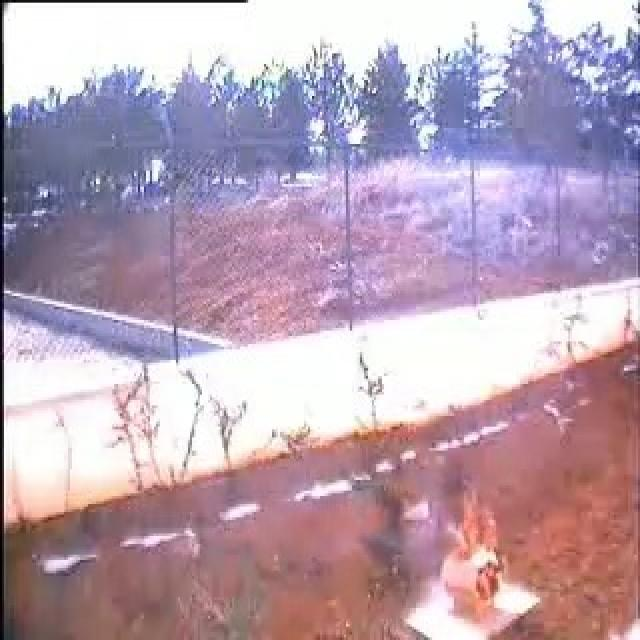fire: (446, 512, 508, 605)
smoke: (420, 552, 445, 632)
